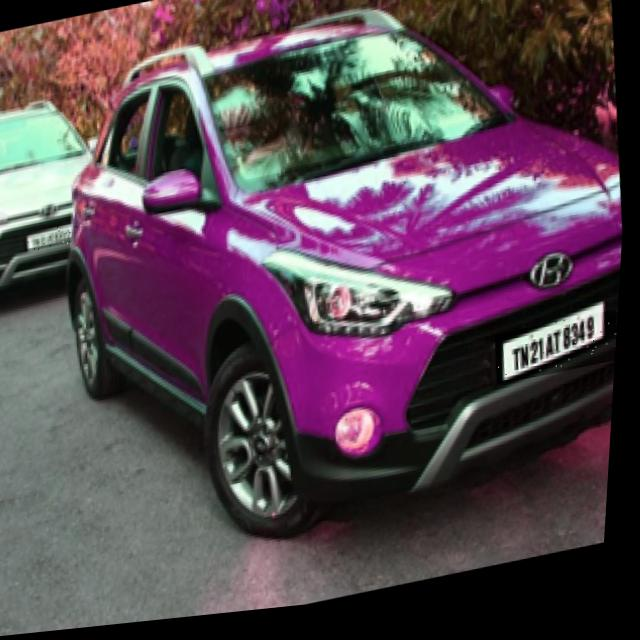license_plate: (497, 323, 623, 396), (26, 223, 86, 253)
